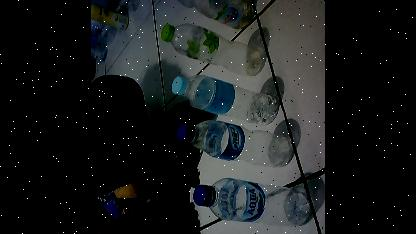Plastic Bottle: (178, 114, 298, 170), (193, 177, 318, 229), (167, 70, 283, 126), (158, 19, 268, 75), (137, 0, 264, 29)
